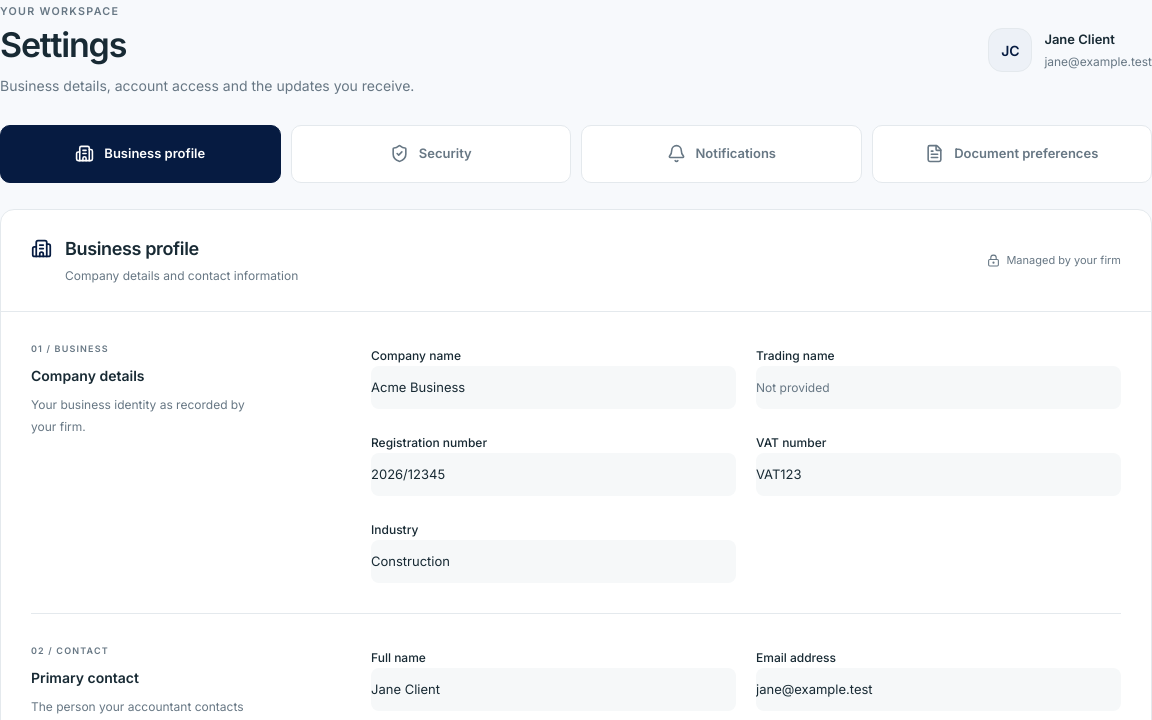
Scenario: client settings redesign › does not invent editable notification preferences in live mode
expect the field showing "Acme Business" is shown: met, box [371,366,736,409]
Click the tab "Notifications" at (721, 154), box [581,125,862,183]
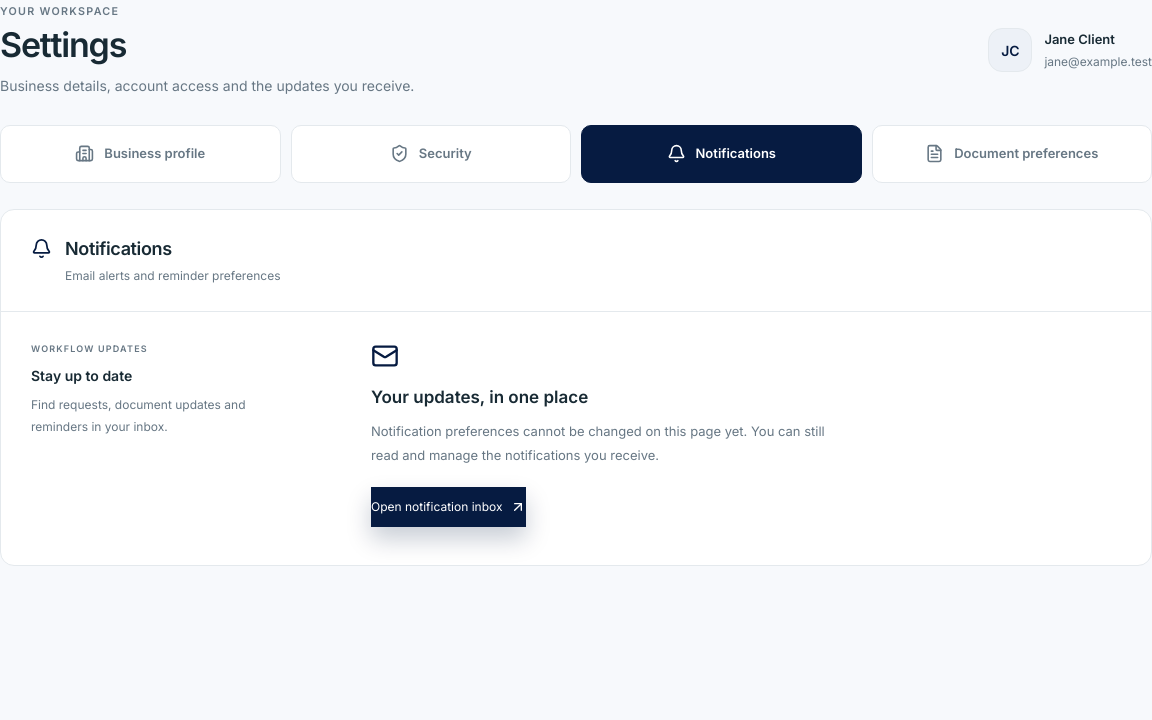
expect the button "Open notification inbox" is shown: met, box [371,487,526,527]
